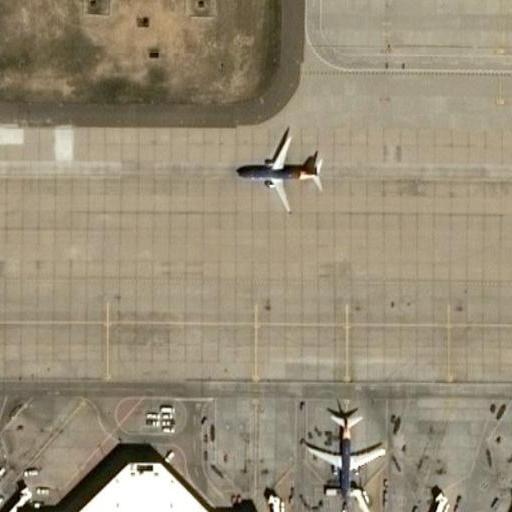Aircraft: (228, 125, 327, 214), (302, 401, 388, 495)
